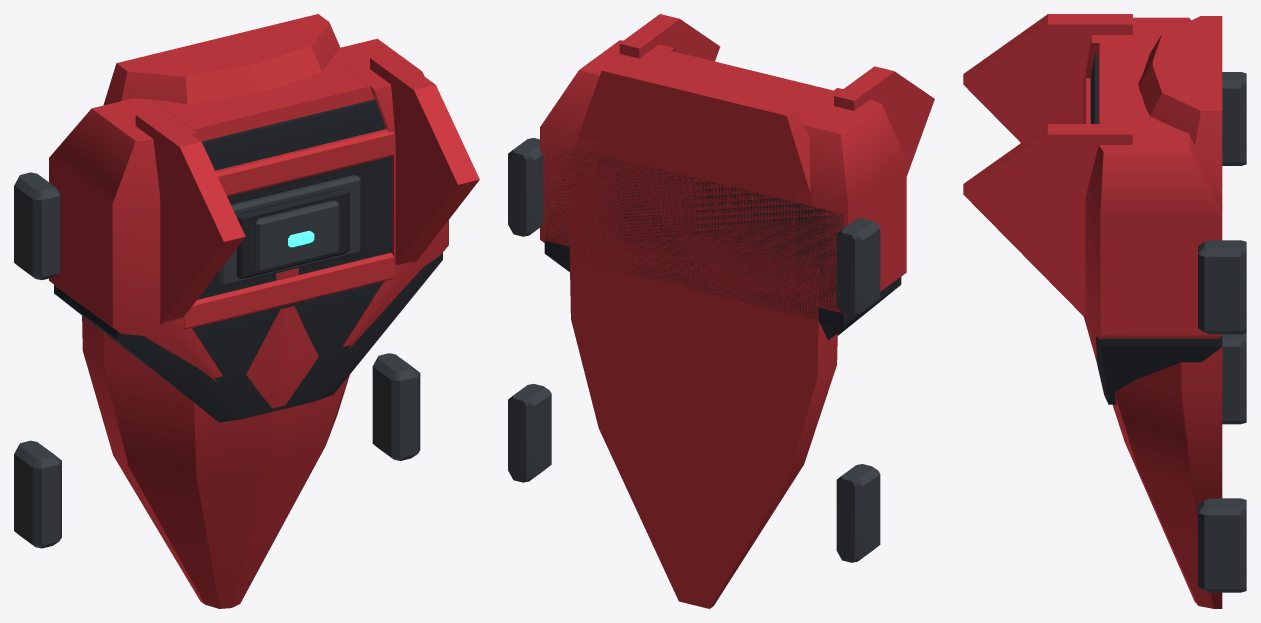
Rendered from ThighBack_Set09_Mantis.fbx.
The picture shows the model from 3 angles, left to right: view 1: azimuth 30°, elevation 25°; view 2: azimuth 150°, elevation 25°; view 3: azimuth 270°, elevation 25°; orthographic projection. The views are drawn at different scales.
Parts seen in each view (by area): view 1: ThighBack_Set09_Mantis; view 2: ThighBack_Set09_Mantis; view 3: ThighBack_Set09_Mantis.
Part boxes in pixels (bbox=[...]): ThighBack_Set09_Mantis: bbox=[14, 14, 479, 608]; ThighBack_Set09_Mantis: bbox=[508, 14, 934, 608]; ThighBack_Set09_Mantis: bbox=[963, 14, 1246, 608].
Size of the model in its own units: 0.53 by 0.73 by 0.3489.
